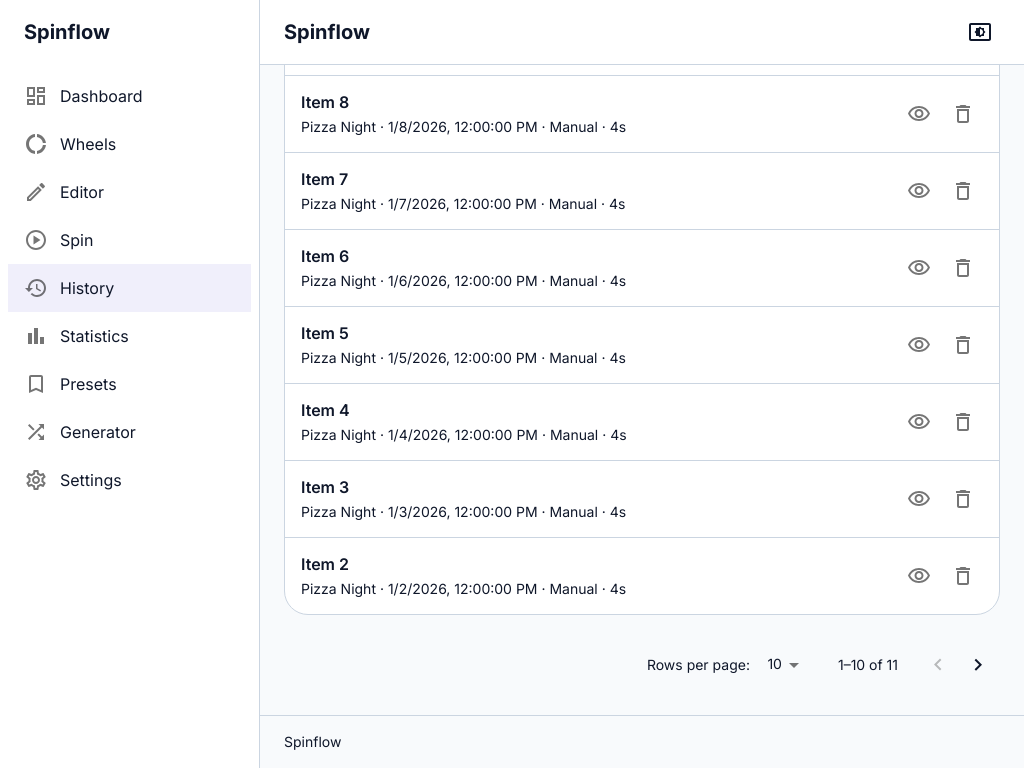
Test: HistoryScreen › shows more rows when the page size increases
The image size is (1024, 768).
(page scrolled)
Expected: the text "Item 1" is not shown
Click the dropdown named "rows per page".
click(775, 664)  # box [767, 655, 782, 672]
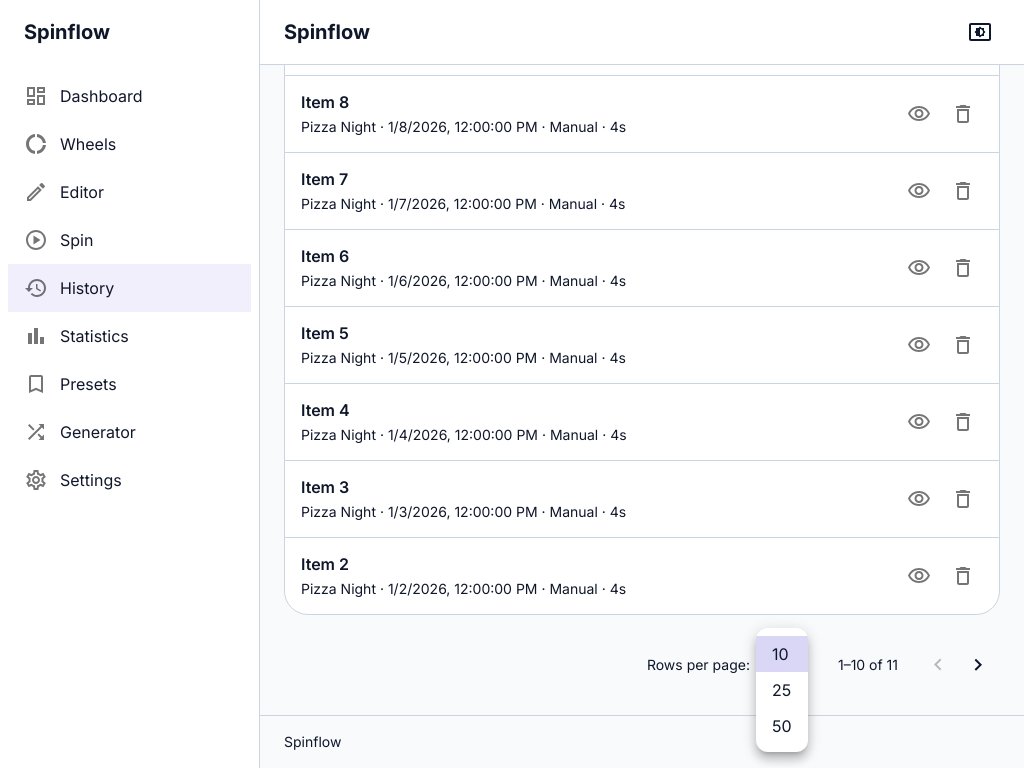
Click the option "25".
click(782, 690)  # box [772, 680, 791, 700]
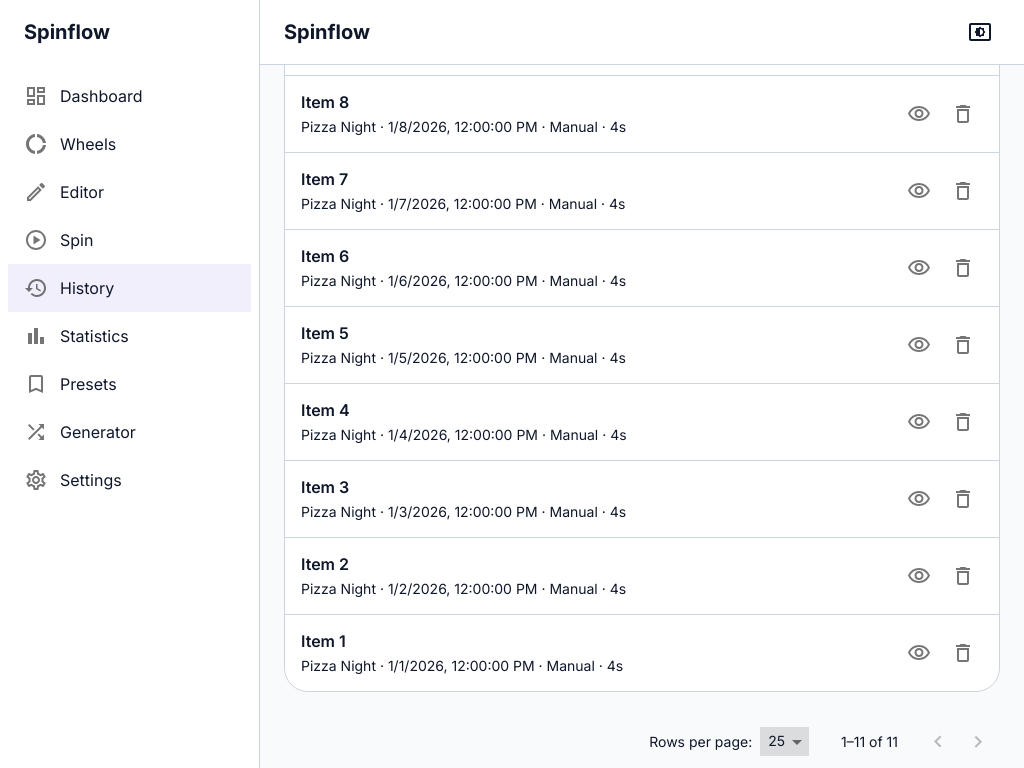
Now the text "Item 1" is shown, box [301, 631, 346, 651]
